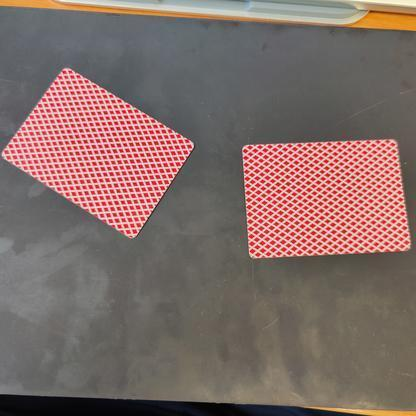card: (1, 63, 203, 243), (229, 133, 416, 267)
